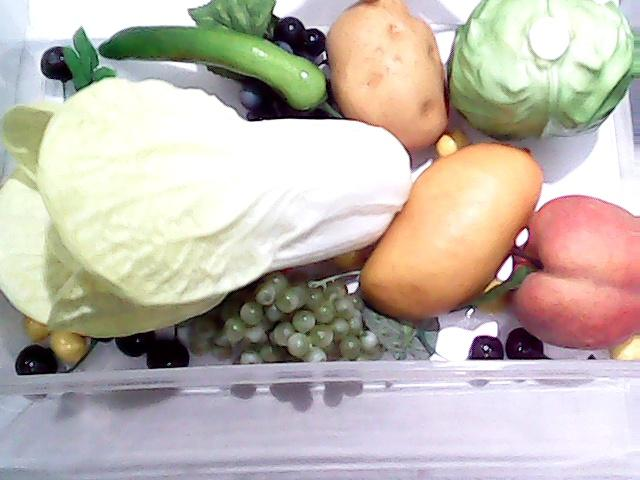cabbage: (447, 0, 633, 148)
grape: (175, 275, 442, 363), (193, 0, 327, 120)
mango: (355, 139, 543, 325)
napa cabbage: (0, 55, 404, 352)
peach: (504, 194, 640, 352)
pepper: (98, 3, 322, 125)
potato: (324, 0, 451, 152)
